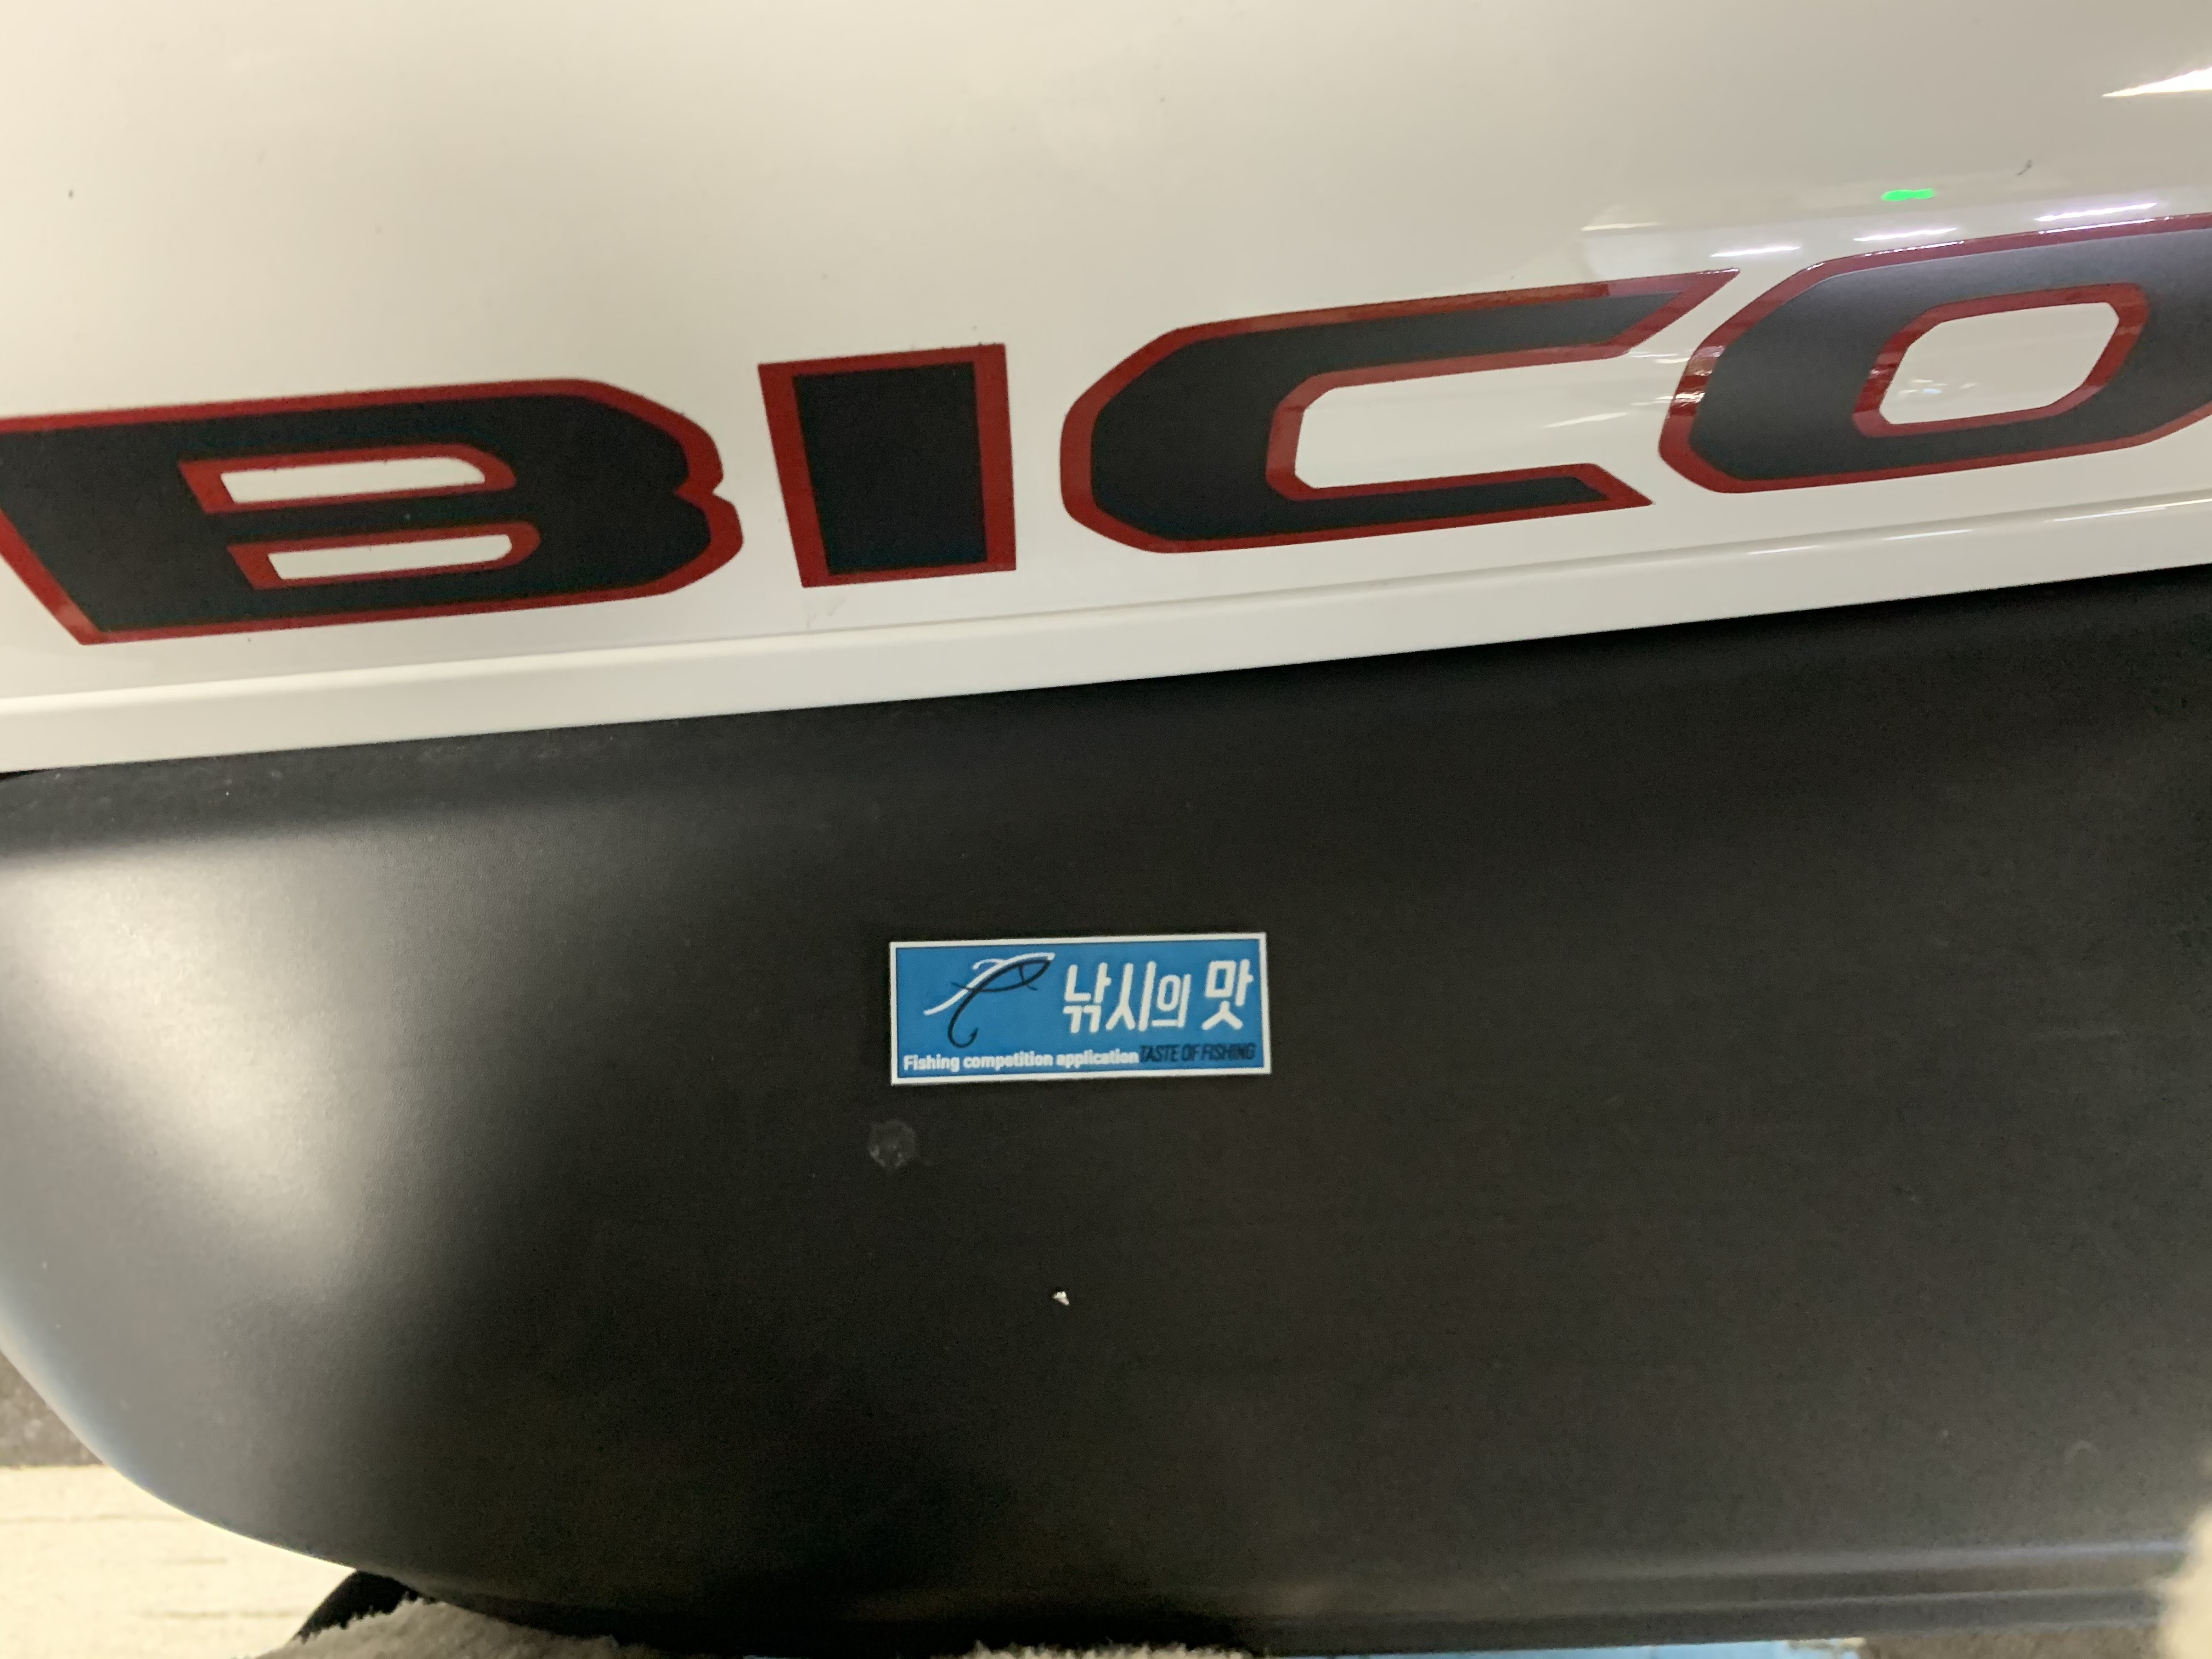tag: (890, 931, 1271, 1082)
